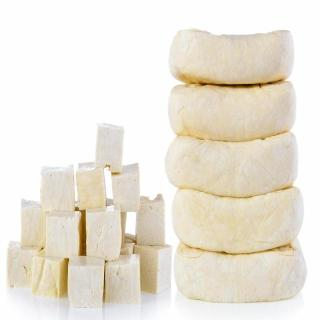Tahu: (3, 124, 175, 309)
